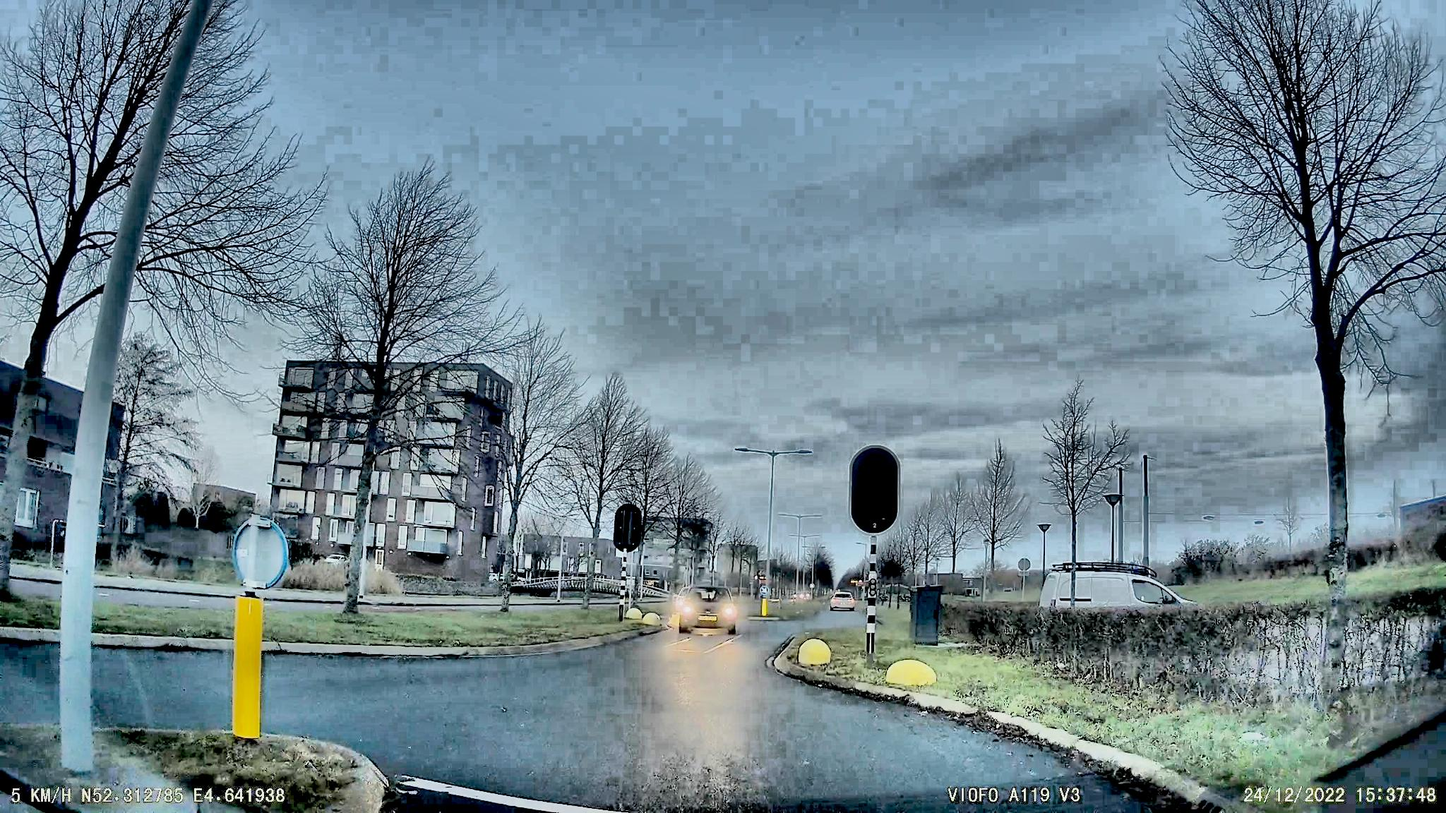Roads: (259, 623, 1247, 813)
